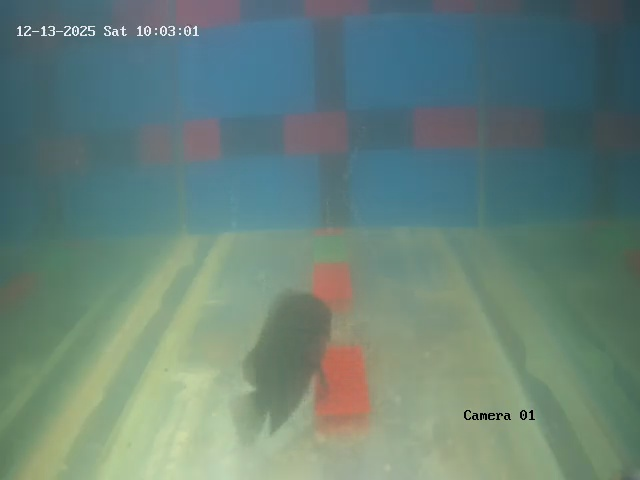fish: (236, 291, 334, 401)
